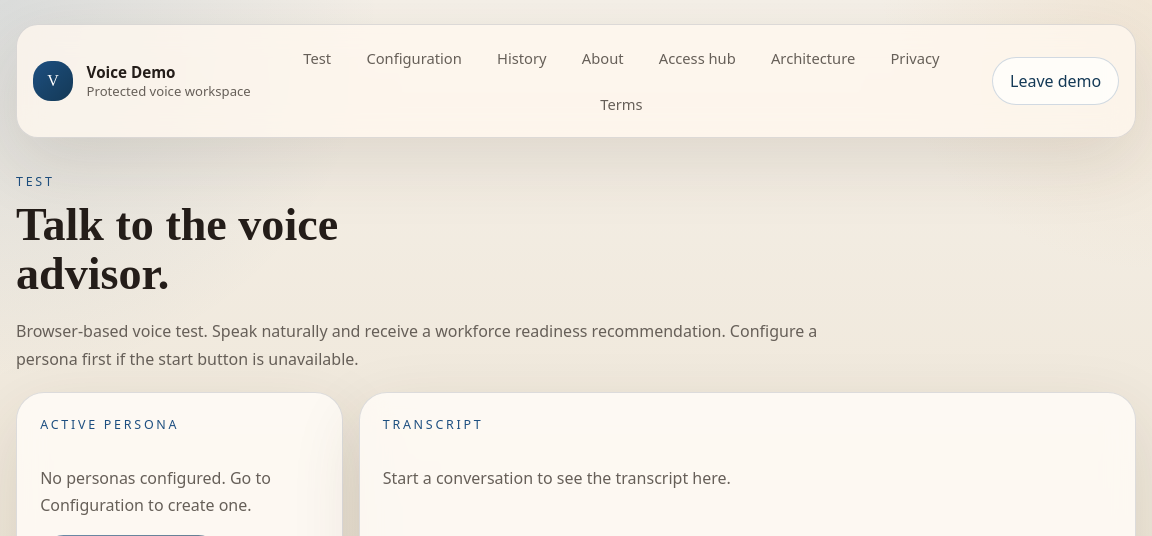
Test: VoiceDemoWorkspace › renders about tab content when About is clicked
Click the button "About": (603, 58) [568,39,637,77]
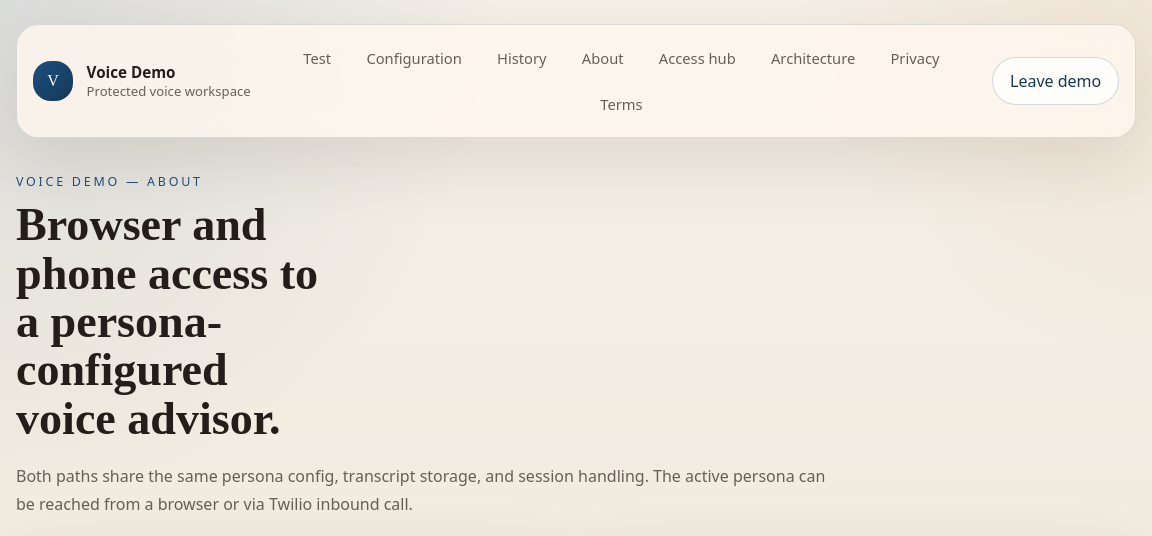
Now the text "Voice Demo — about" is shown, box [16,173,203,190]
Now the heading "Browser and phone access to a persona-configured voice advisor." is shown, box [16,201,338,443]
